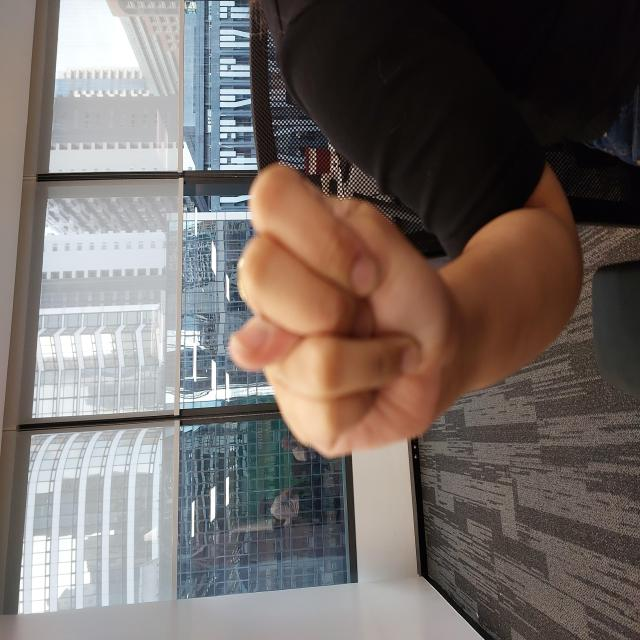N: (179, 226, 481, 462)
